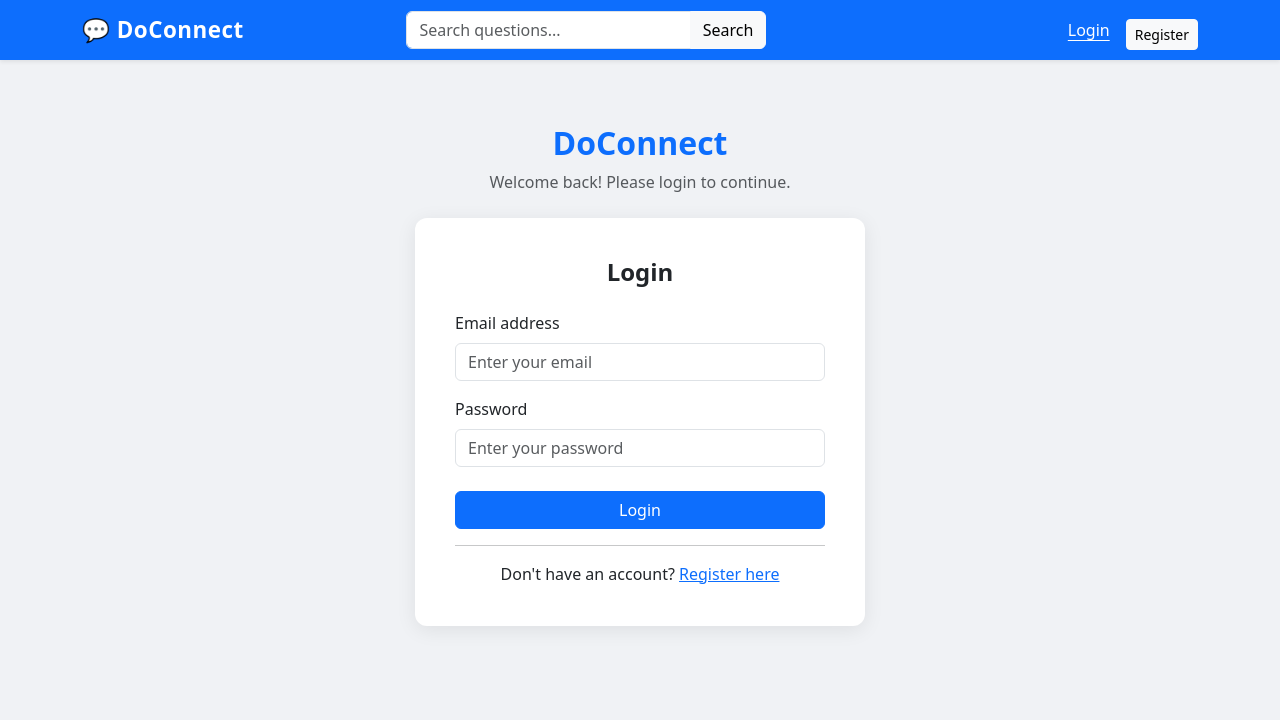
Scenario: DoConnect E2E Tests › Login Page › shows error for short password
In the field named "email": (640,362) [455,343,825,381], type "test@test.com"
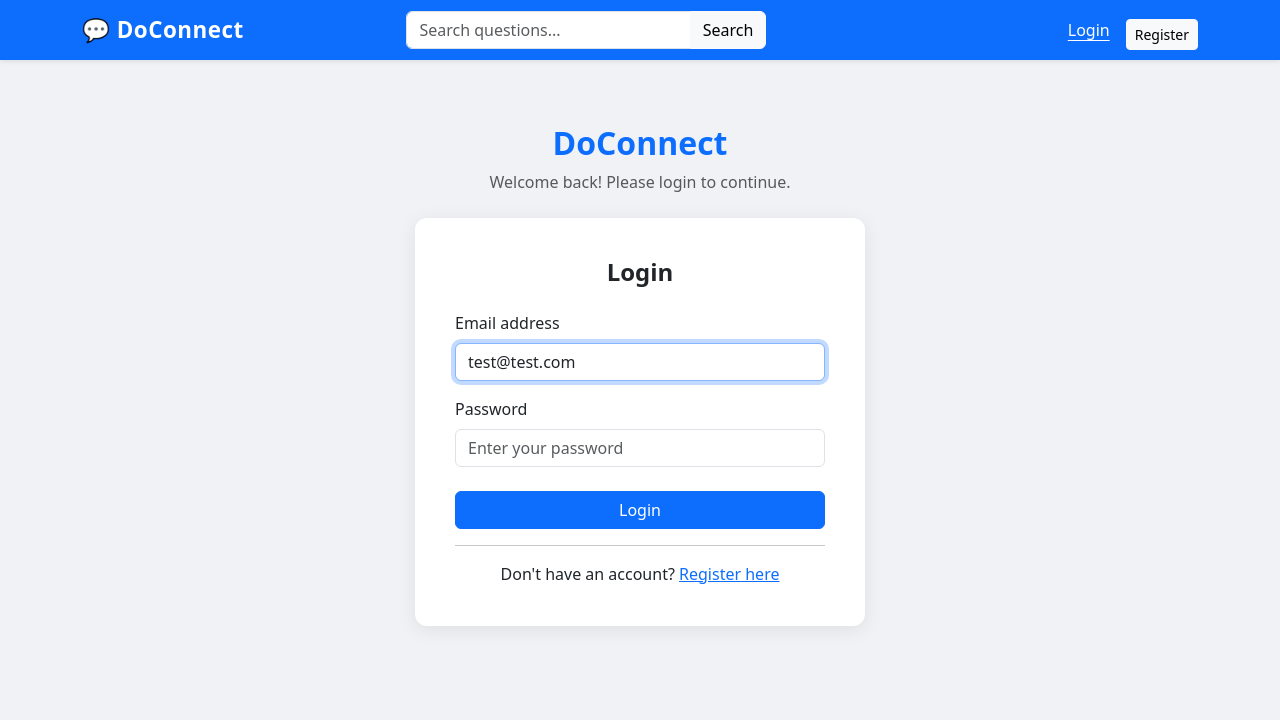
In the password field named "password": (640,448) [455,429,825,467], type "123"
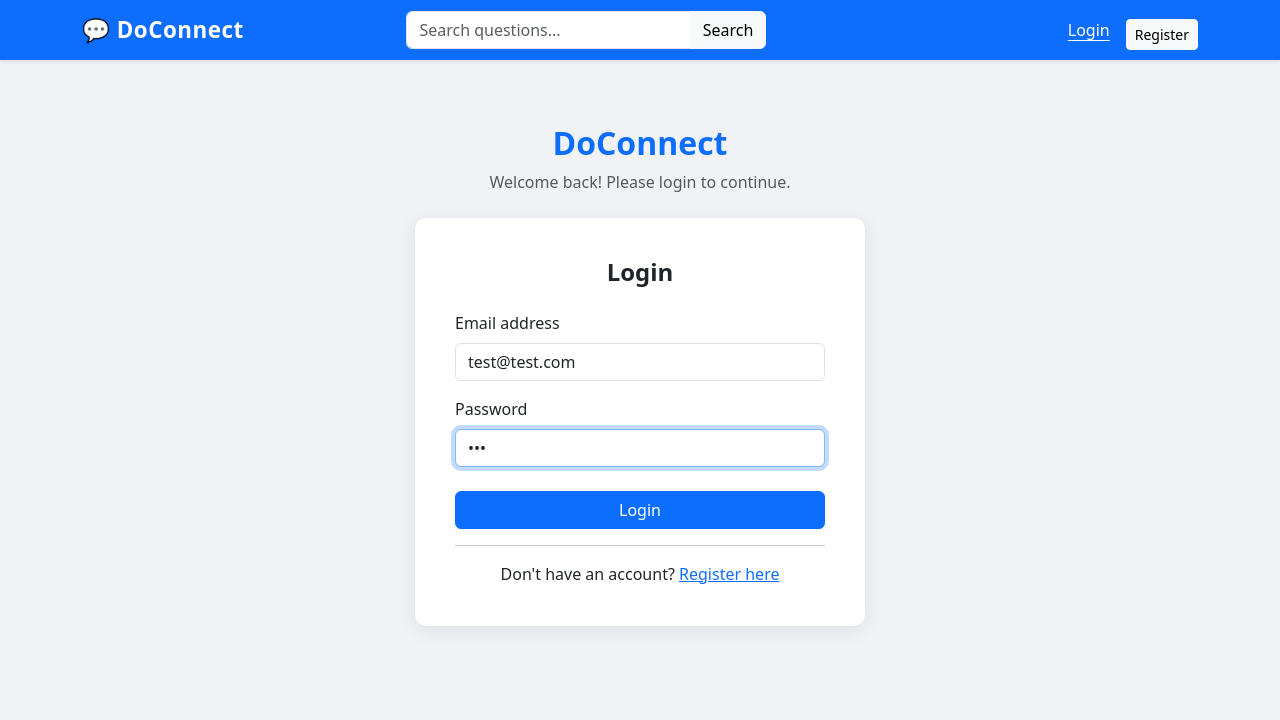
Click the button "Login": (640,510) [455,491,825,529]
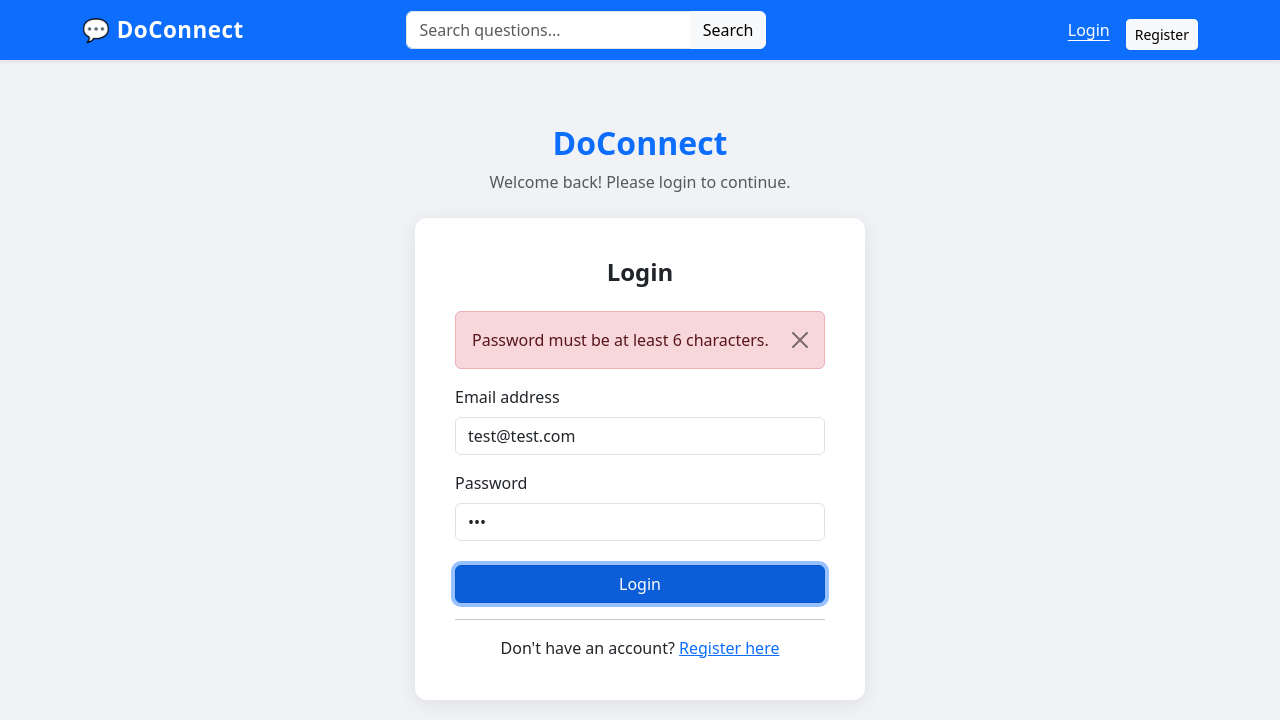
Expected: the text "Password must be at least 6 characters." is shown, [455,311,825,369]
